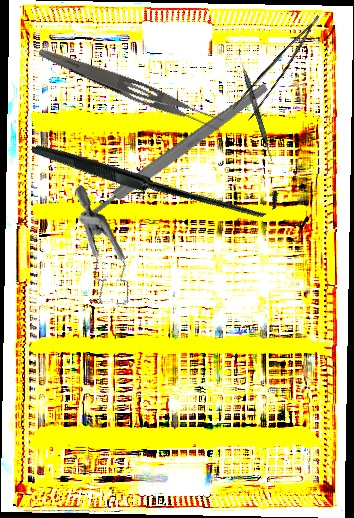Dressing Forceps: (34, 44, 227, 136)
Hook Surgical: (31, 48, 284, 304)
Scalpel Handle: (82, 81, 270, 223)
Spatula Surgical: (234, 48, 276, 162)
Speculum: (26, 184, 166, 321)
Tissue Forceps: (227, 14, 335, 126)
